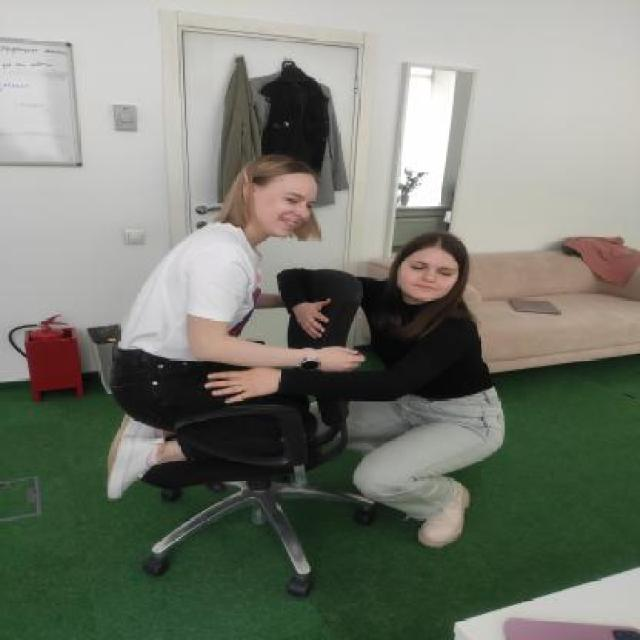chair: (121, 262, 384, 601)
